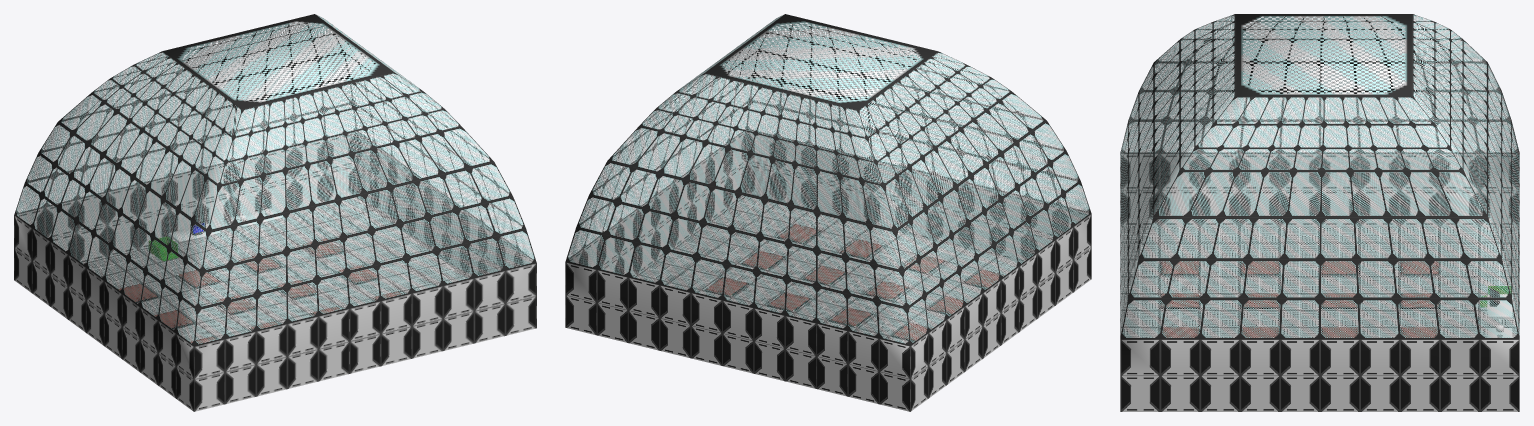
File: DomeGrowRoom.fbx
3 renders of one model, left to right at view 1: azimuth 30°, elevation 25°; view 2: azimuth 150°, elevation 25°; view 3: azimuth 270°, elevation 25°, orthographic. The views are drawn at different scales.
Parts seen in each view (by area): view 1: !Room, Planters; view 2: !Room, Planters; view 3: !Room, Planters, Table.
Part boxes in pixels (x1,y1,x2,y2): !Room: [14, 14, 536, 411]; Planters: [118, 238, 401, 343]; !Room: [565, 14, 1091, 411]; Planters: [705, 224, 1004, 341]; !Room: [1120, 14, 1519, 411]; Planters: [1160, 261, 1439, 337]; Table: [1487, 294, 1512, 318].
Bounding box in the file's own units: 2200 × 1474 × 2000.
